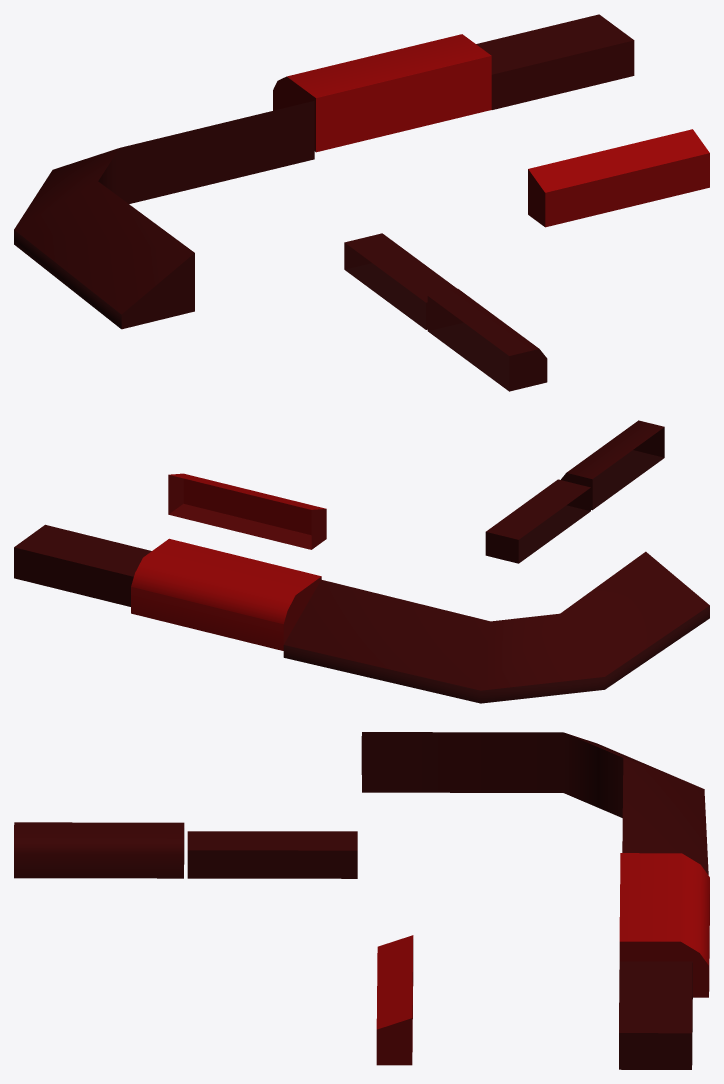
Rendered from color.006.fbx.
3 renders of one model, top to bottom at view 1: azimuth 30°, elevation 25°; view 2: azimuth 150°, elevation 25°; view 3: azimuth 270°, elevation 25°, orthographic. The views are drawn at different scales.
Parts seen in each view (by area): view 1: color.006; view 2: color.006; view 3: color.006.
Boxes of the visible parts, x1=… form: color.006: x1=14, y1=14, x2=709, y2=391; color.006: x1=14, y1=420, x2=709, y2=703; color.006: x1=14, y1=732, x2=709, y2=1069.
Size of the model in its own units: 2083 by 2279 by 241.
